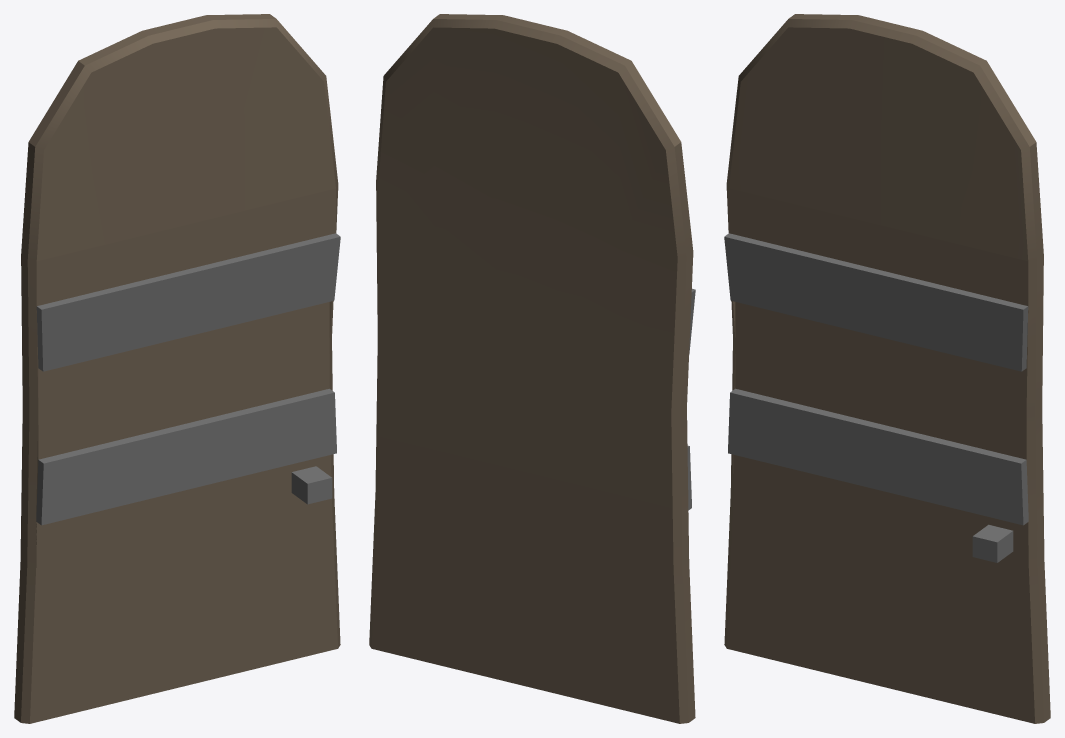
The model's file is grote deur.fbx.
The picture shows the model from 3 angles, left to right: view 1: azimuth 30°, elevation 25°; view 2: azimuth 150°, elevation 25°; view 3: azimuth 330°, elevation 25°; orthographic projection.
Parts seen in each view (by area): view 1: grote_deur; view 2: grote_deur; view 3: grote_deur.
Part boxes in pixels (left/top/right/bottom): grote_deur: left=14, top=14, right=340, bottom=723; grote_deur: left=369, top=14, right=695, bottom=723; grote_deur: left=724, top=14, right=1050, bottom=723.
Bounding box in the file's own units: 180 × 353 × 28.48.
